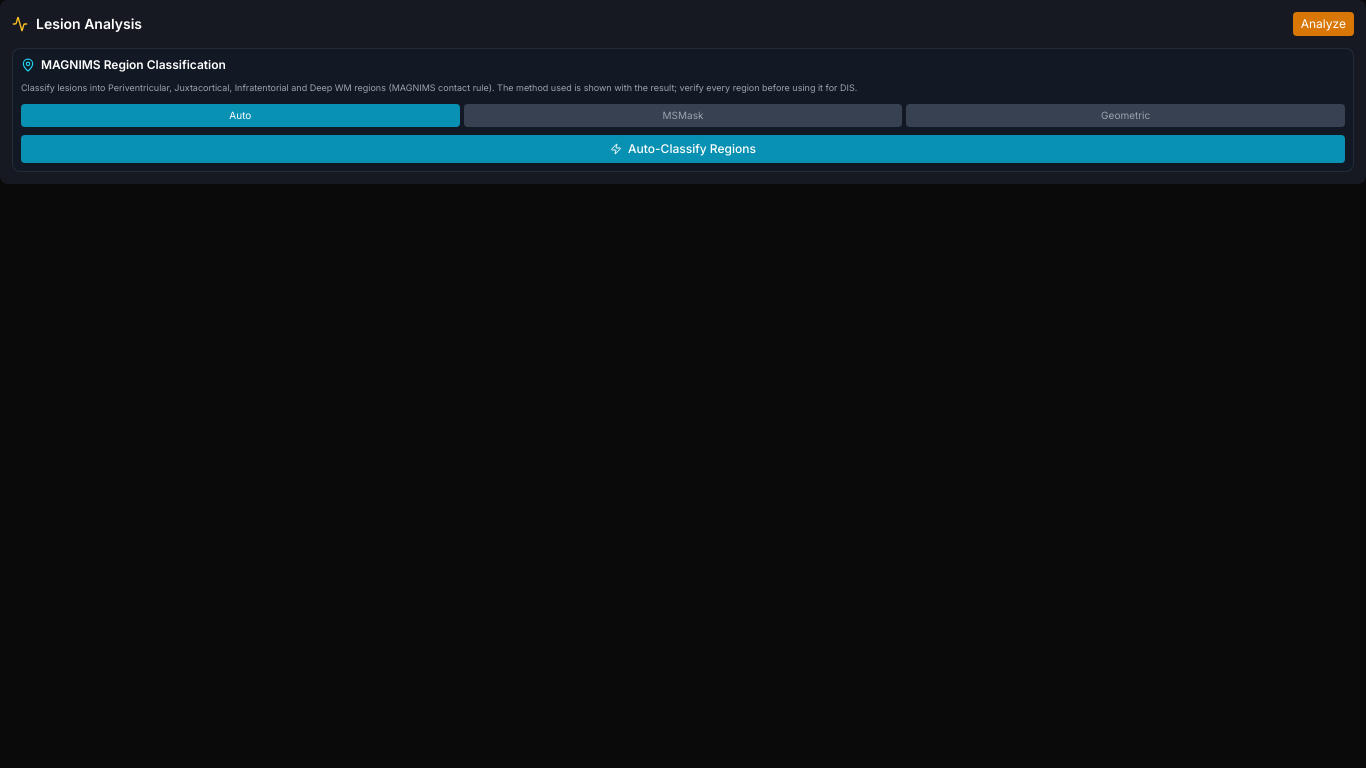
Test: F04: per-region rows › rc070 release f04 the by-region rows show a dash, never the escape text
Click the button "Analyze" at point(1323, 24), box [1293,12,1354,36]
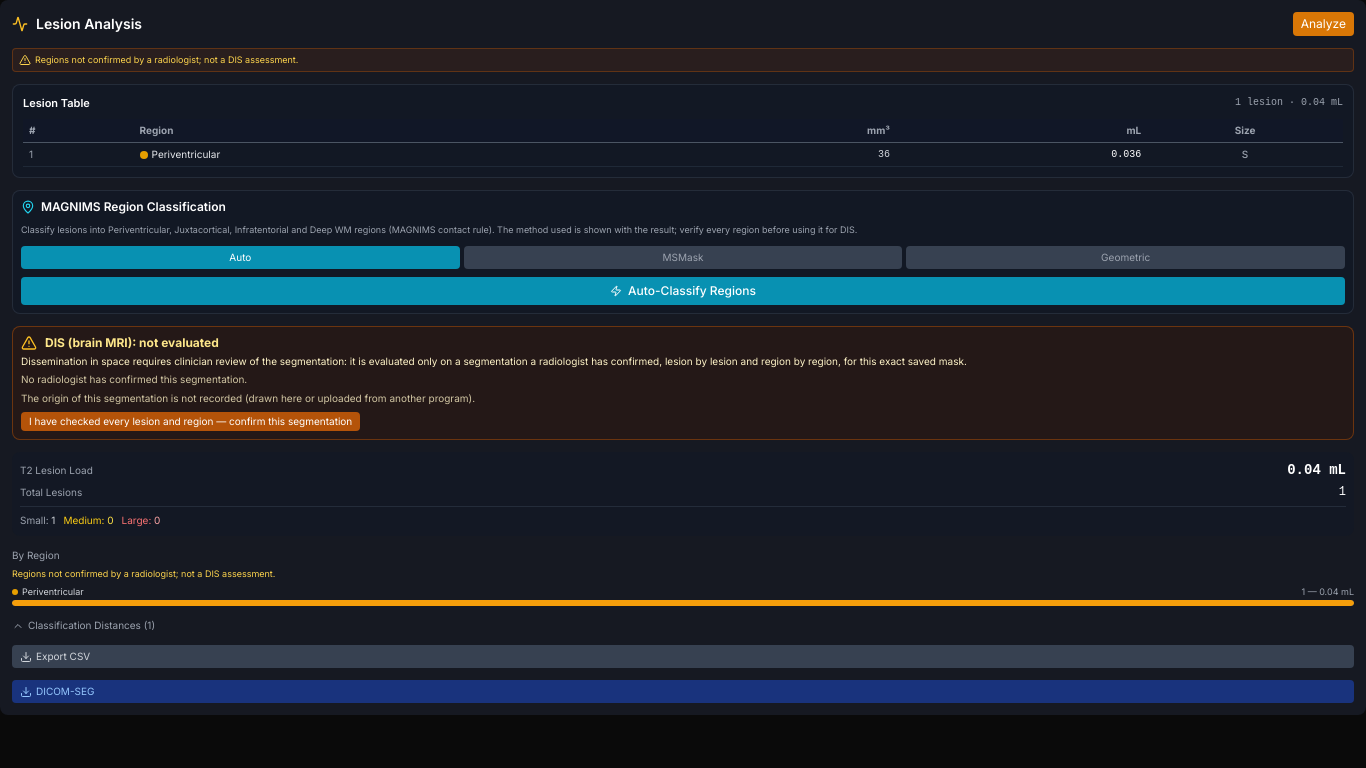
Expected: the text "1 — 0.04 mL" is shown, [1301,585,1354,598]
